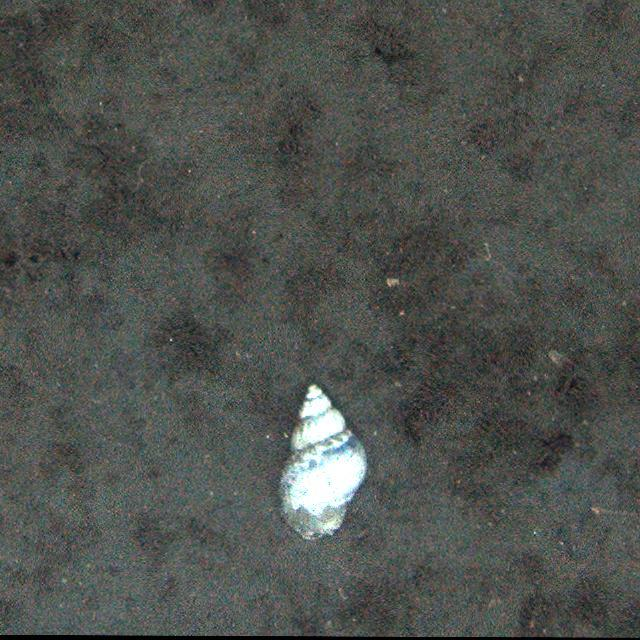whelk: (275, 375, 371, 540)
